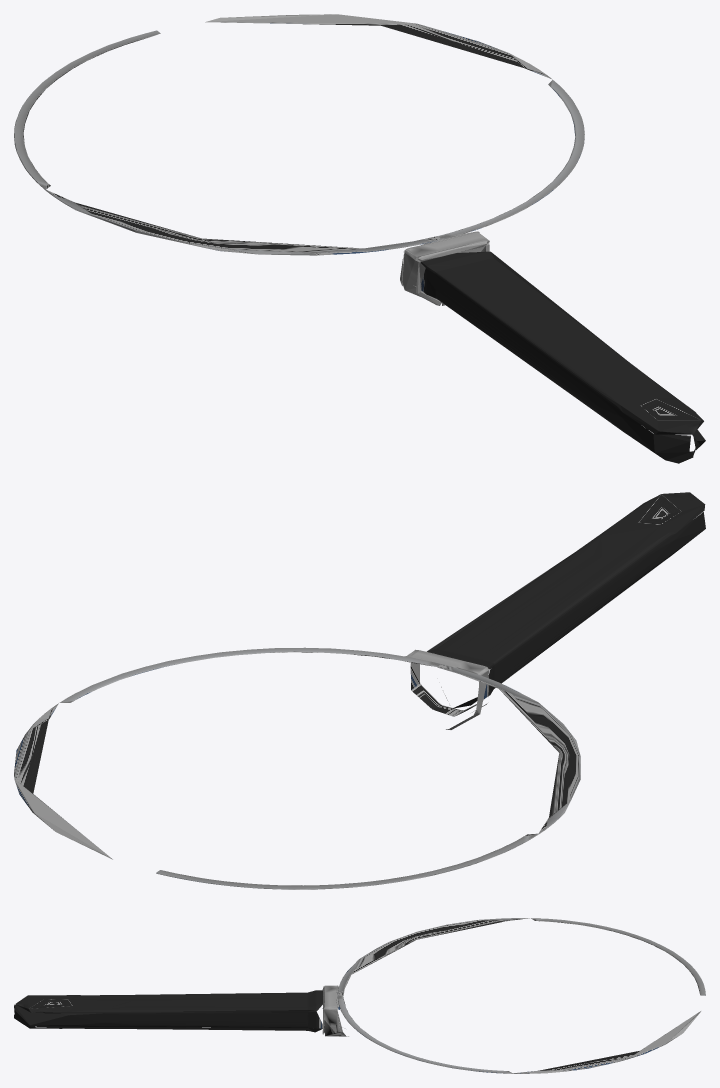
Rendered from kitchenware_pan_h01.glb.
3 renders of one model, top to bottom at view 1: azimuth 30°, elevation 25°; view 2: azimuth 150°, elevation 25°; view 3: azimuth 270°, elevation 25°, orthographic. The views are drawn at different scales.
Visible parts, largest first — view 1: geometry_0; view 2: geometry_0; view 3: geometry_0.
Boxes of the visible parts, x1,y1,x2,y2 form: geometry_0: (14, 14, 705, 463); geometry_0: (14, 492, 705, 889); geometry_0: (14, 918, 705, 1073).
Bounding box in the file's own units: 0.2236 × 0.026 × 0.42.
1 material, 1 textured.
